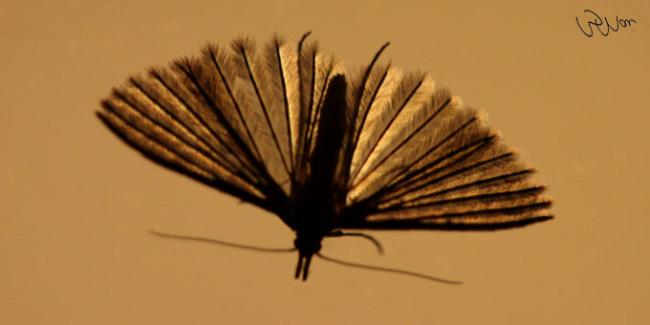Alucitidae: (90, 31, 564, 293)
moth: (92, 33, 566, 295)
